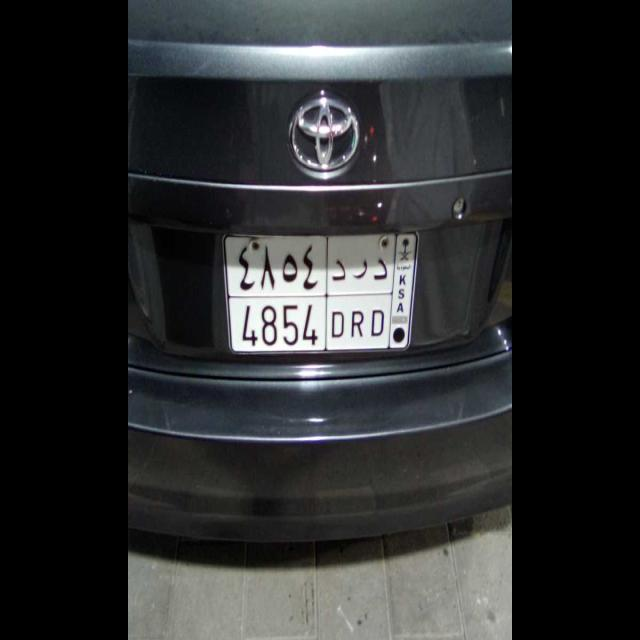license_plate: (222, 292, 391, 351)
